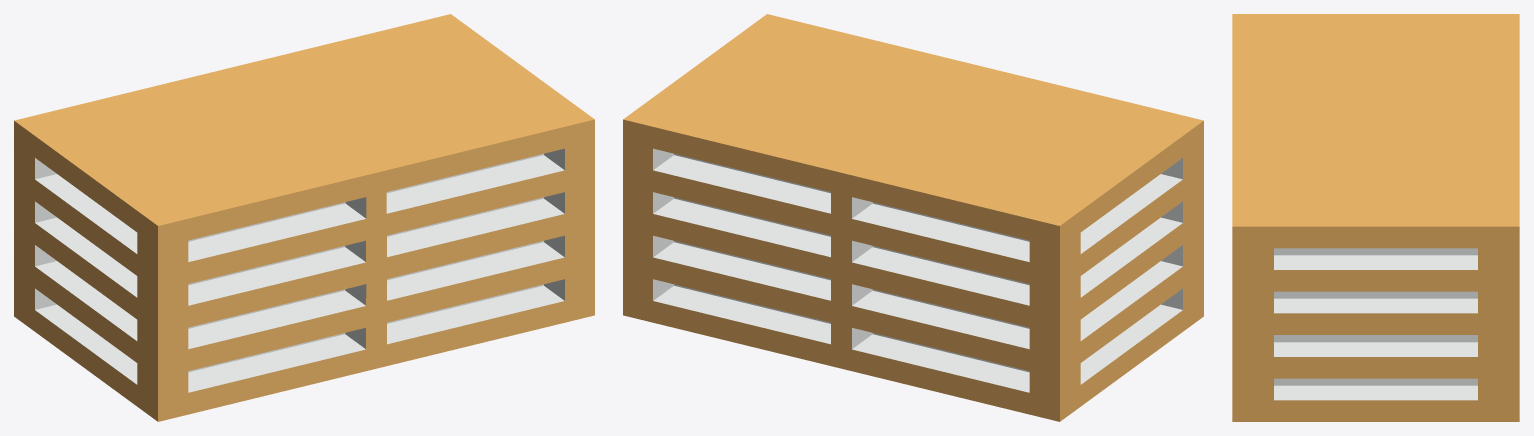
Rendered from SkyscraperB.fbx.
The picture shows the model from 3 angles, left to right: view 1: azimuth 30°, elevation 25°; view 2: azimuth 150°, elevation 25°; view 3: azimuth 270°, elevation 25°; orthographic projection.
Parts seen in each view (by area): view 1: Building; view 2: Building; view 3: Building.
Part boxes in pixels (left/top/right/bottom): Building: left=14, top=14, right=594, bottom=421; Building: left=623, top=14, right=1203, bottom=421; Building: left=1232, top=14, right=1519, bottom=421.
Bounding box in the file's own units: 4200 × 1800 × 2400.
